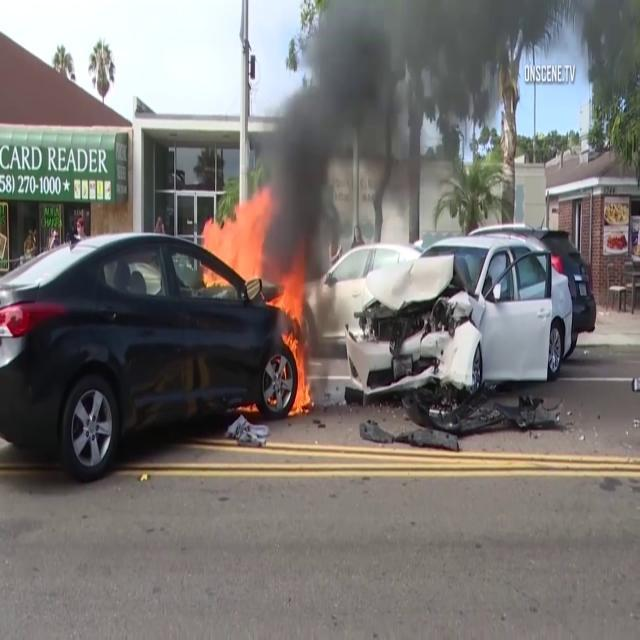Fire: (200, 175, 280, 298), (271, 272, 315, 418)
Smoke: (242, 2, 525, 276)
